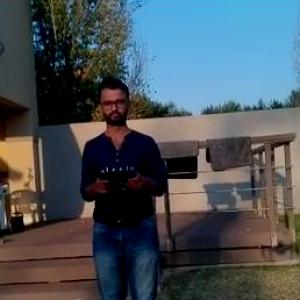follow: (78, 70, 177, 299)
